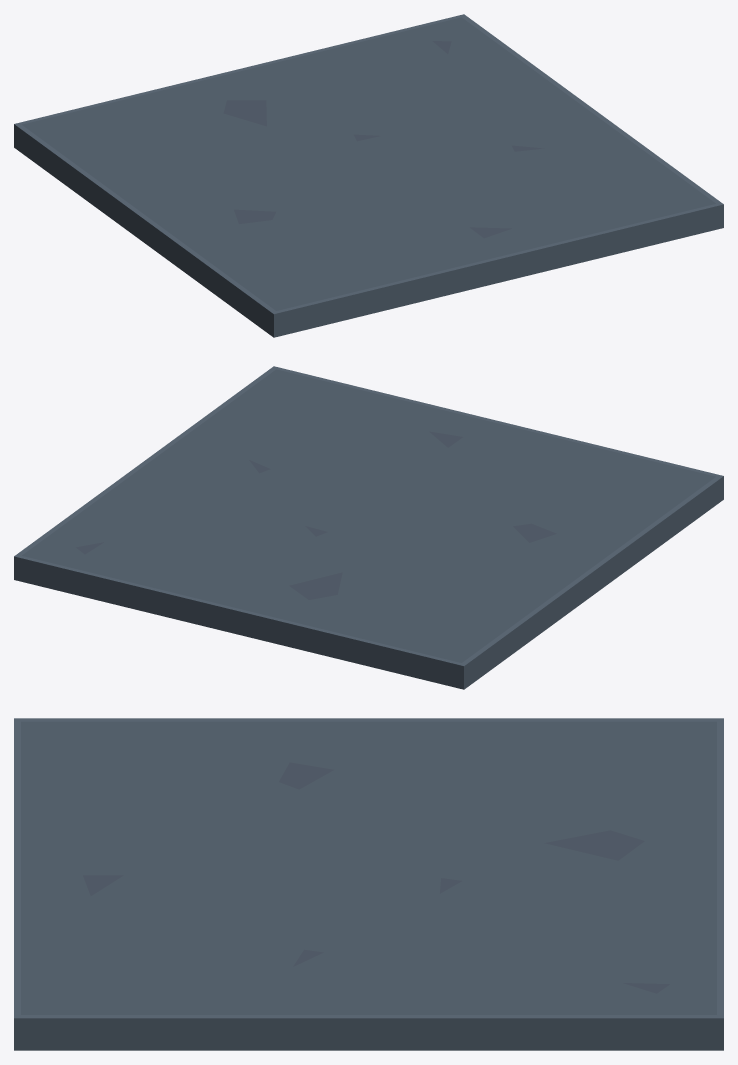
File: ConcrateSlabs_C_1_2.fbx
3 renders of one model, top to bottom at view 1: azimuth 30°, elevation 25°; view 2: azimuth 150°, elevation 25°; view 3: azimuth 270°, elevation 25°, orthographic. The views are drawn at different scales.
Visible parts, largest first — view 1: ConcrateSlabs_C_1_2; view 2: ConcrateSlabs_C_1_2; view 3: ConcrateSlabs_C_1_2.
Boxes of the visible parts, x1,y1,x2,y2 form: ConcrateSlabs_C_1_2: [14, 14, 723, 337]; ConcrateSlabs_C_1_2: [14, 366, 723, 689]; ConcrateSlabs_C_1_2: [14, 718, 723, 1050].
Size of the model in its own units: 800 by 40 by 800.
